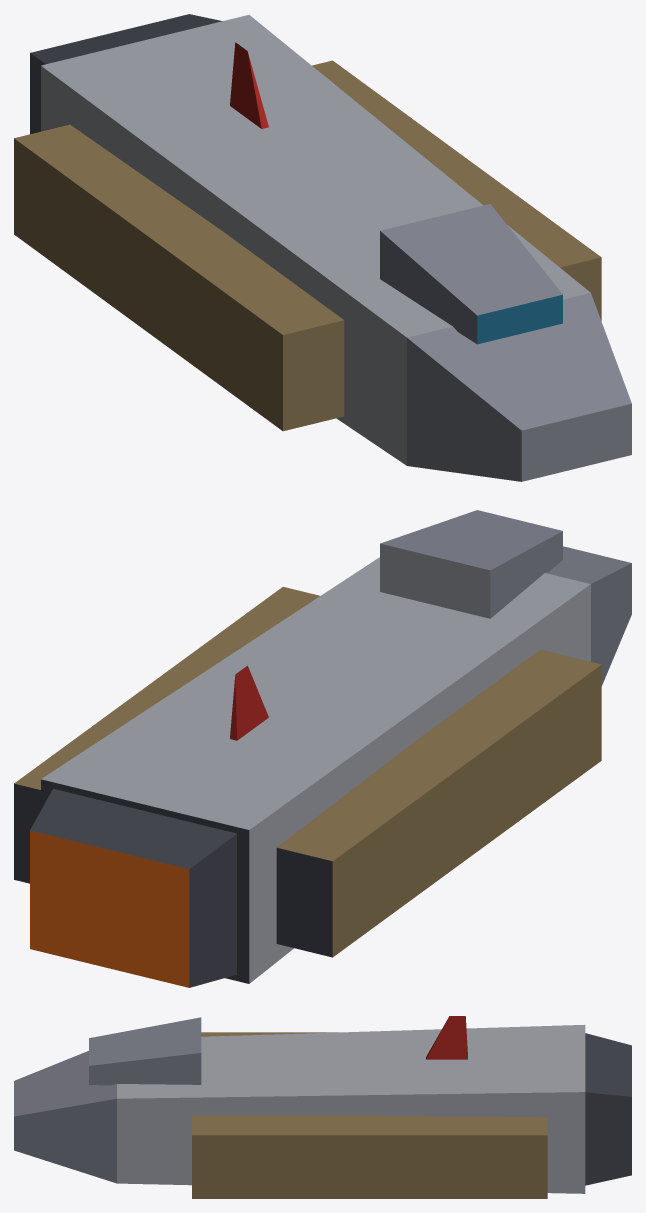
Rendered from freighter.obj.
The picture shows the model from 3 angles, top to bottom: view 1: azimuth 30°, elevation 25°; view 2: azimuth 150°, elevation 25°; view 3: azimuth 270°, elevation 25°; orthographic projection. The views are drawn at different scales.
Size of the model in its own units: 5.2 by 3.4 by 13.2.
